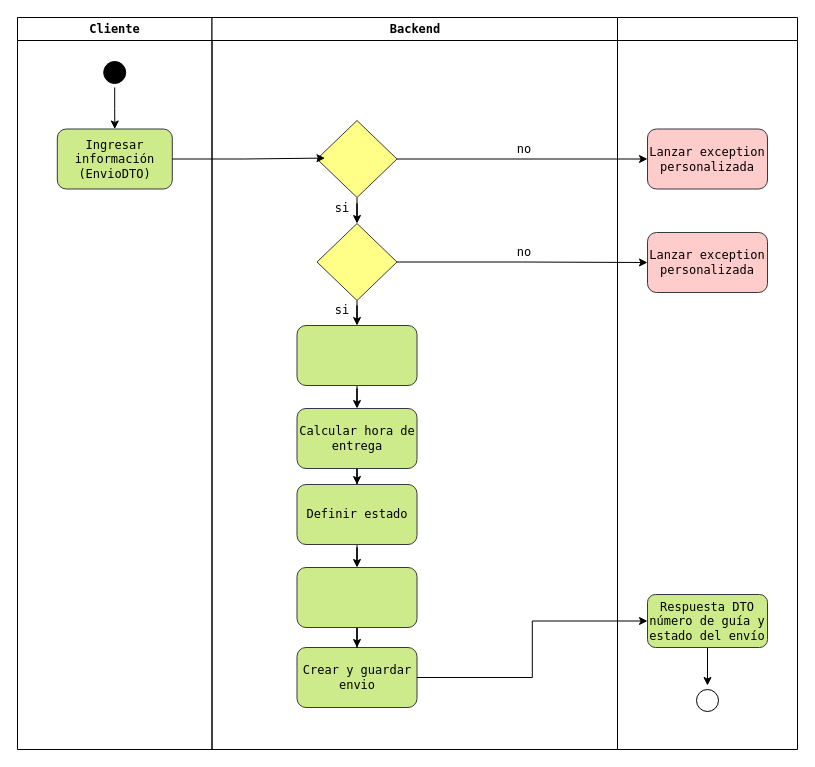
Some shapes in this 815 by 767 pixel diagram are drawn without their labels. The box of each missing label's shape, as (x1, y1, x2, y2) in pixels:
Calcular valor envio: (296, 566, 417, 628)
Crear y guardar paquete: (296, 324, 417, 386)
Frontend: (616, 16, 798, 750)
Validar cliente: (316, 222, 397, 300)
Validar datos: (316, 120, 397, 198)
